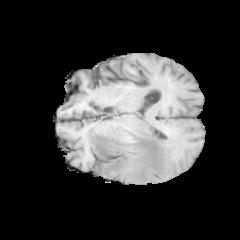glioma: (85, 118, 176, 182)
